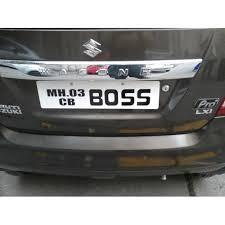licence-plate: (37, 78, 160, 109)
